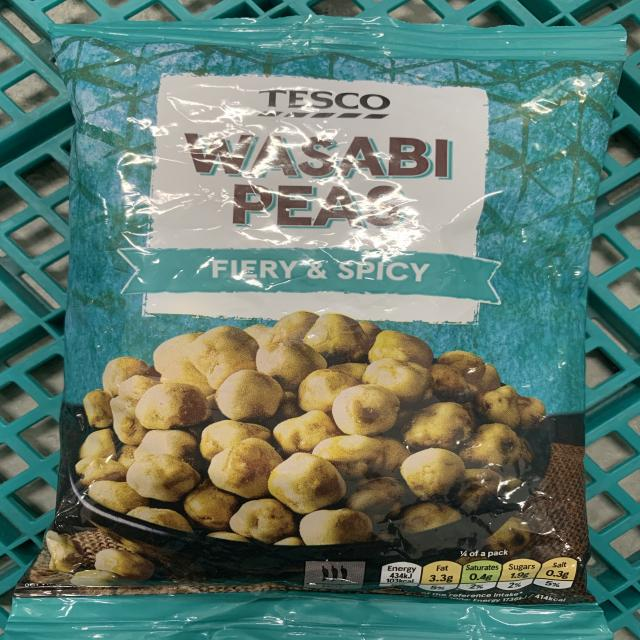object_name: (61, 28, 596, 640)
